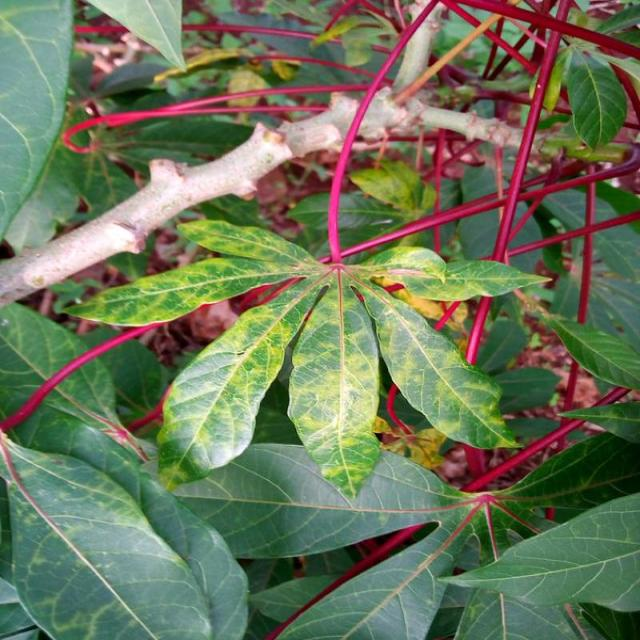cassava leaf: (1, 1, 638, 638), (65, 203, 549, 502)
